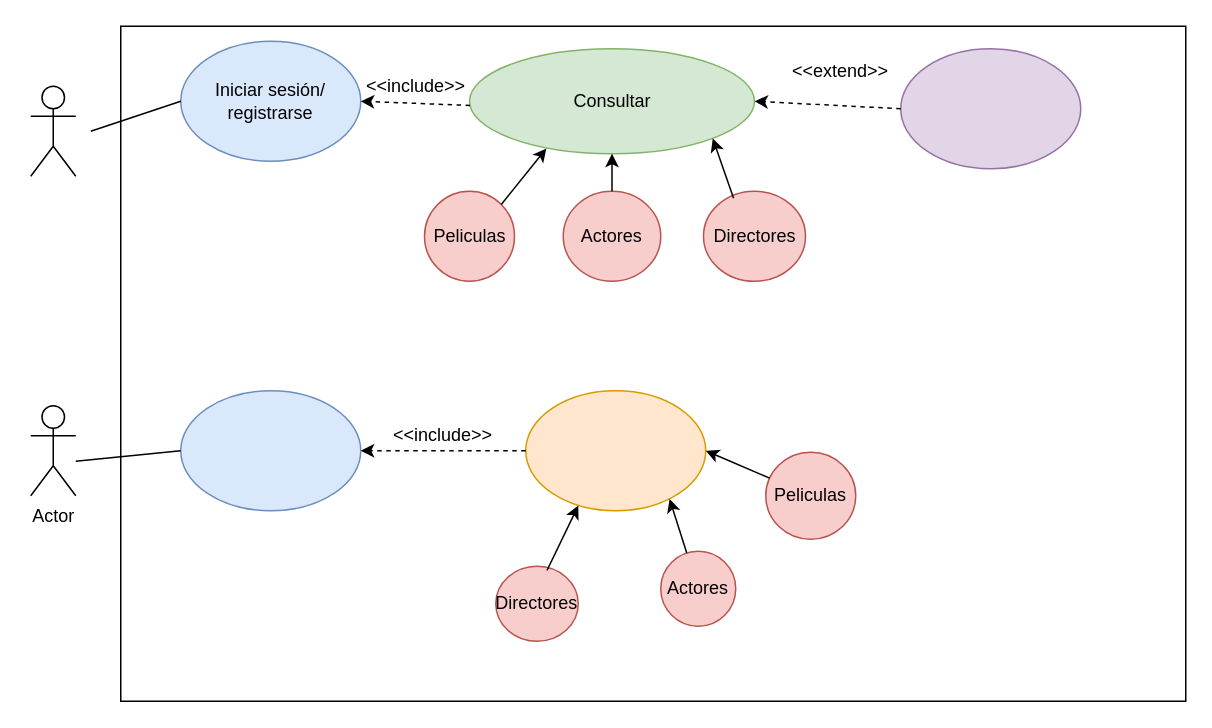
The diagram is 1212 pixels wide and 728 high, and some of its shapes have lost their labels. The centre of each missing label's shape, as x and y in pixels:
"Cliente" goes at (52,130).
"ImprimirPDF" goes at (990,108).
"Iniciar sesión" goes at (270,450).
"Inserta/Editar/Borrar" goes at (615,450).
